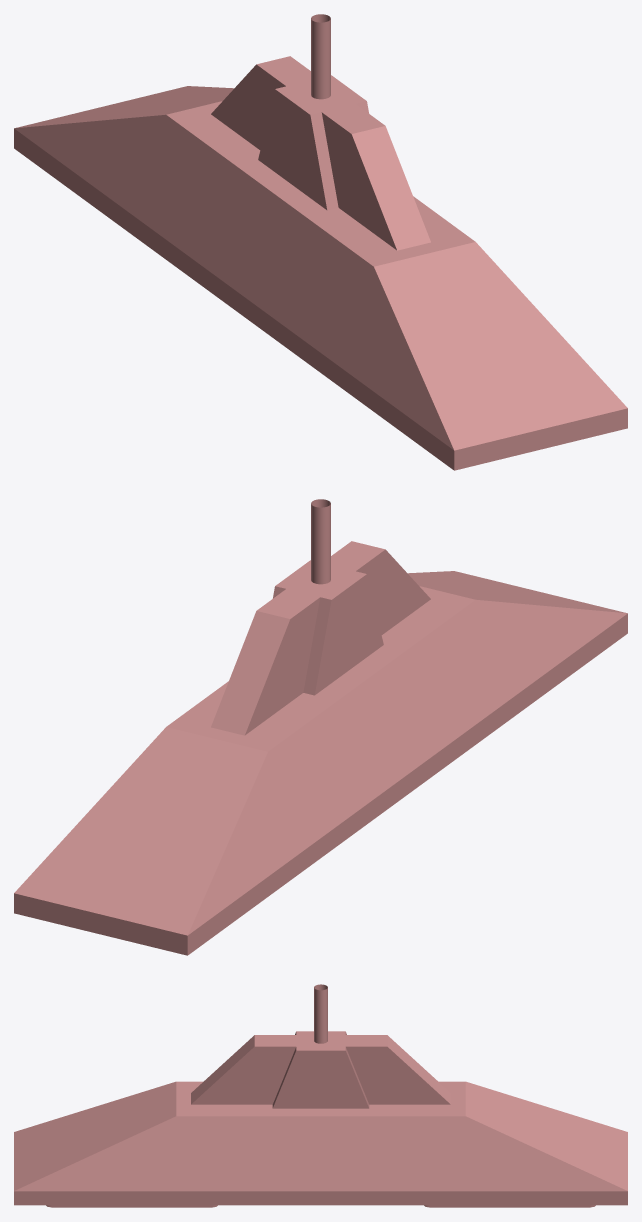
The model's file is GEN_Light02.fbx.
3 renders of one model, top to bottom at view 1: azimuth 30°, elevation 25°; view 2: azimuth 150°, elevation 25°; view 3: azimuth 270°, elevation 25°, orthographic. The views are drawn at different scales.
Parts seen in each view (by area): view 1: Lights02_Body; view 2: Lights02_Body; view 3: Lights02_Body.
Boxes of the visible parts, bbox=[...] form: Lights02_Body: bbox=[14, 14, 627, 470]; Lights02_Body: bbox=[14, 499, 627, 955]; Lights02_Body: bbox=[14, 984, 627, 1207].
Bounding box in the file's own units: 20.11 × 31.28 × 88.29.
